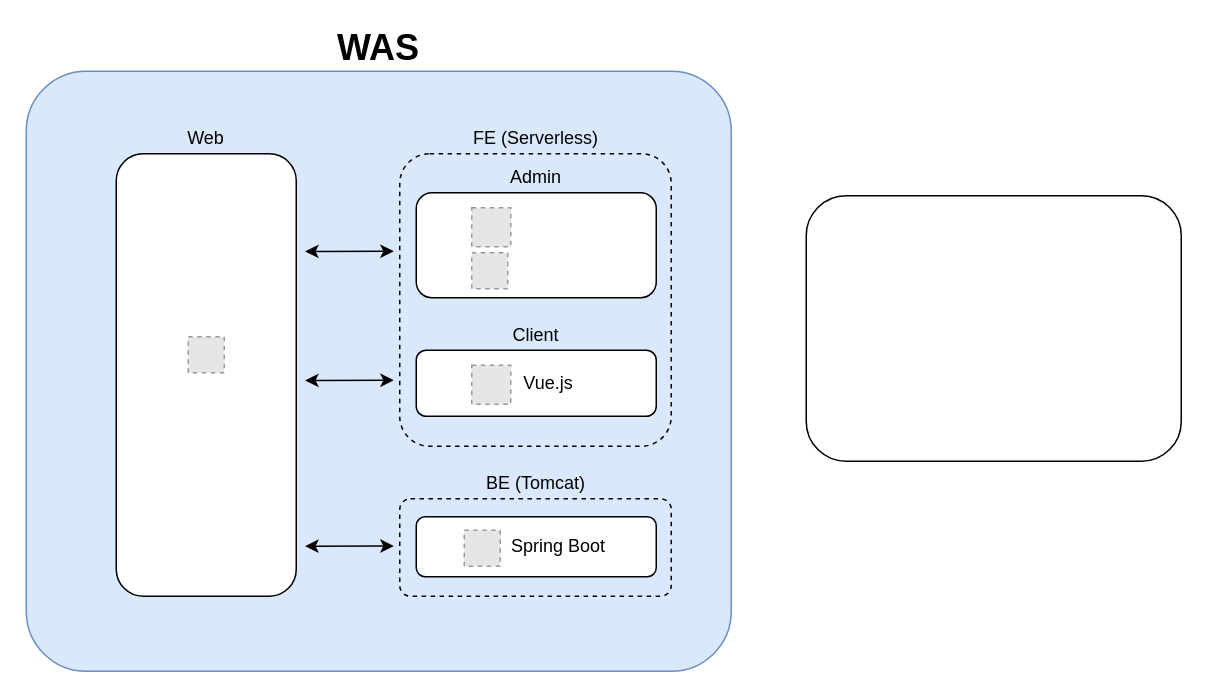
Some shapes in this 1208 by 698 pixel diagram are drawn without their labels. Grey dashed boxes stand in for pictures. Here are the shapes that lost their labels. From the top down, the box of each, then its label:
(415, 191, 656, 298): Vue.js Vuetify
(115, 152, 296, 596): NGINX
